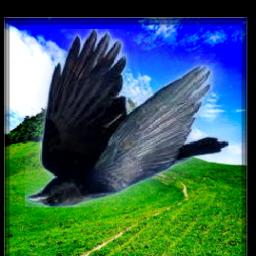Crow: (25, 29, 228, 207)
